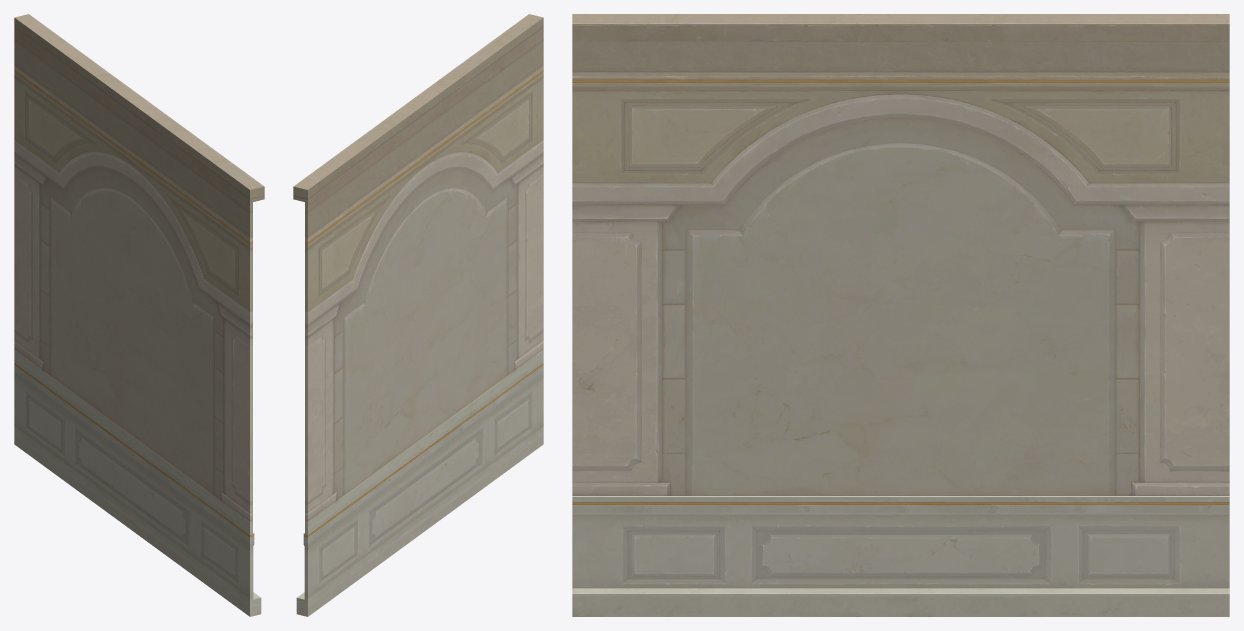
File: Homeworld_Interior_Fd_Room_Wall_01_Vo.fbx
The picture shows the model from 3 angles, left to right: view 1: azimuth 30°, elevation 25°; view 2: azimuth 150°, elevation 25°; view 3: azimuth 270°, elevation 25°; orthographic projection. The views are drawn at different scales.
Parts seen in each view (by area): view 1: Homeworld_Interior_Fd_Room_Wall_01_Vo; view 2: Homeworld_Interior_Fd_Room_Wall_01_Vo; view 3: Homeworld_Interior_Fd_Room_Wall_01_Vo.
Boxes of the visible parts, x1,y1,x2,y2 form: Homeworld_Interior_Fd_Room_Wall_01_Vo: [14, 14, 264, 616]; Homeworld_Interior_Fd_Room_Wall_01_Vo: [293, 14, 543, 616]; Homeworld_Interior_Fd_Room_Wall_01_Vo: [572, 14, 1229, 616].
Bounding box in the file's own units: 0.1775 × 5 × 5.
